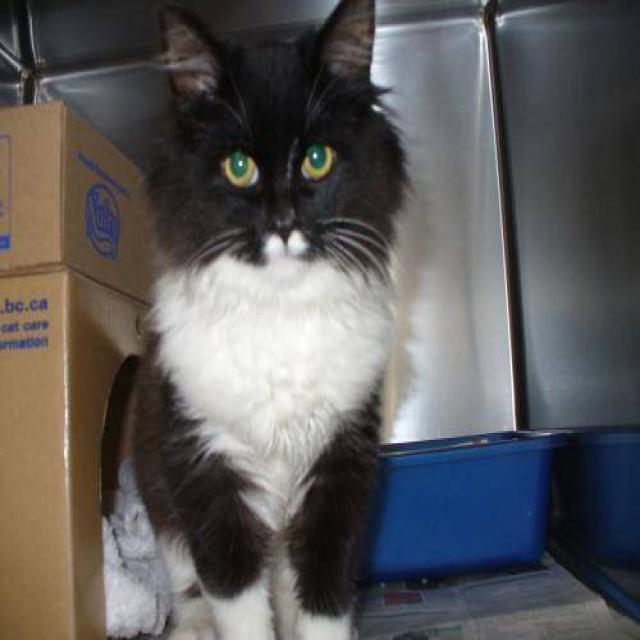cat: (114, 0, 415, 638)
